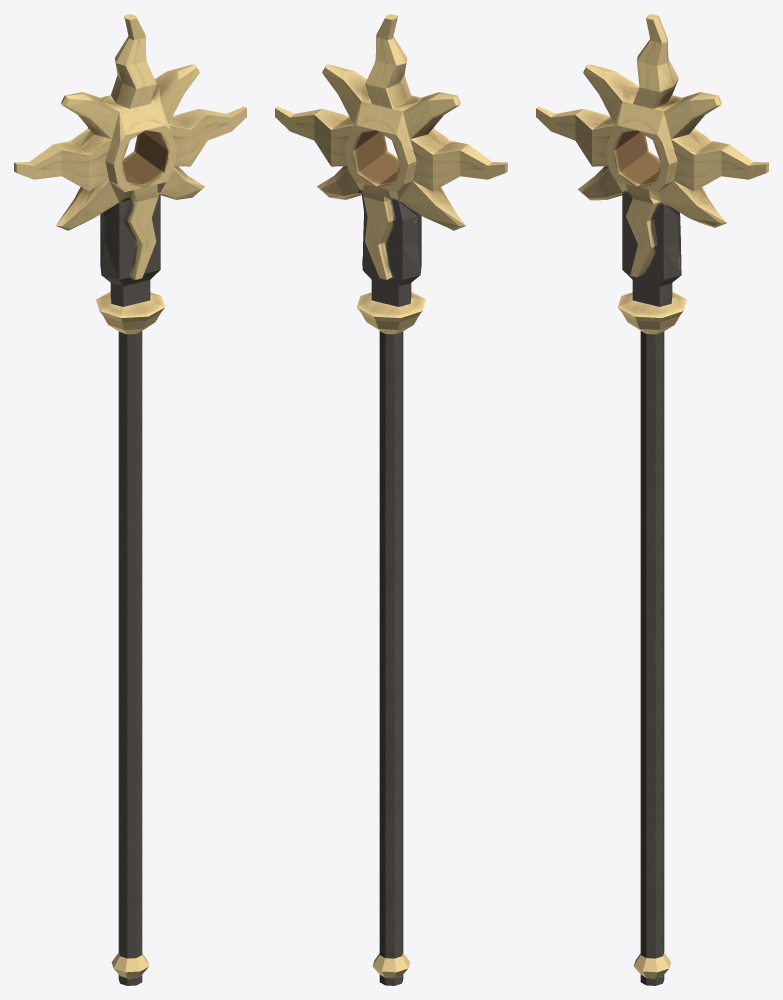
Rendered from Sun Wand.fbx.
The picture shows the model from 3 angles, left to right: view 1: azimuth 30°, elevation 25°; view 2: azimuth 150°, elevation 25°; view 3: azimuth 330°, elevation 25°; orthographic projection.
Visible parts, largest first — view 1: Sun_Wand; view 2: Sun_Wand; view 3: Sun_Wand.
Boxes of the visible parts, x1=… form: Sun_Wand: x1=14, y1=14, x2=246, y2=985; Sun_Wand: x1=275, y1=14, x2=507, y2=985; Sun_Wand: x1=536, y1=14, x2=768, y2=985.
Bounding box in the file's own units: 127 × 508 × 34.25.
